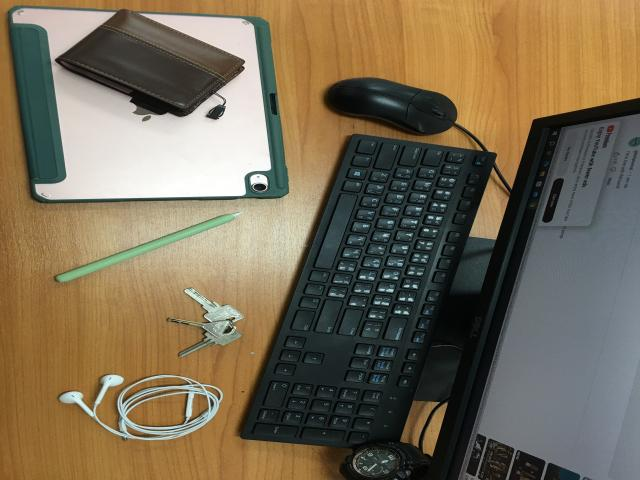Keys: (167, 290, 245, 357)
Mouse: (323, 78, 458, 135)
Wallet: (53, 11, 246, 118)
Watch: (340, 441, 430, 480)
wire: (51, 374, 222, 440)
